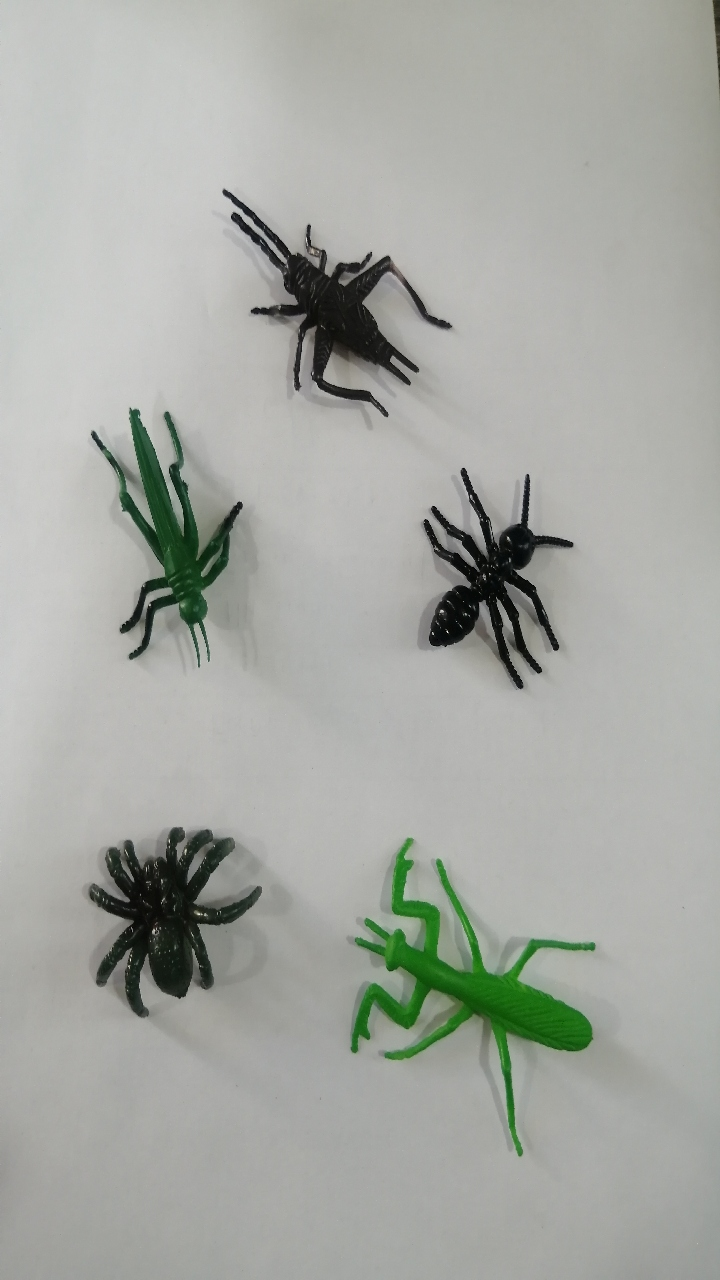intruso: (311, 802, 632, 1188), (197, 160, 475, 451), (363, 432, 584, 711), (60, 795, 281, 1055), (57, 369, 231, 683)
